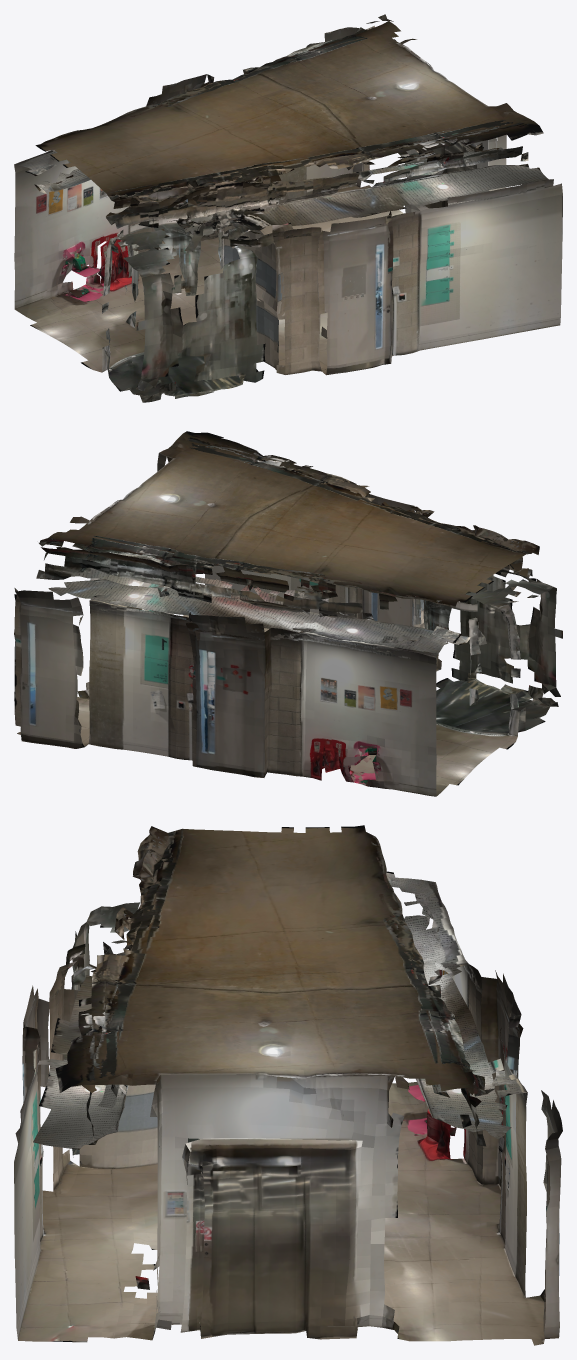
Rendered from 1_corridor_2-IM.fbx.
The picture shows the model from 3 angles, top to bottom: view 1: azimuth 30°, elevation 25°; view 2: azimuth 150°, elevation 25°; view 3: azimuth 270°, elevation 25°; orthographic projection. The views are drawn at different scales.
Parts seen in each view (by area): view 1: 1_corridor_2-IM; view 2: 1_corridor_2-IM; view 3: 1_corridor_2-IM.
Boxes of the visible parts, bbox=[...] form: 1_corridor_2-IM: bbox=[14, 14, 562, 402]; 1_corridor_2-IM: bbox=[14, 431, 562, 796]; 1_corridor_2-IM: bbox=[14, 825, 562, 1345].
Bounding box in the file's own units: 720 × 328 × 625.
1 material, 1 textured.
